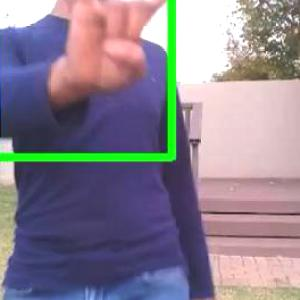takeoff-hand: (55, 0, 206, 103)
